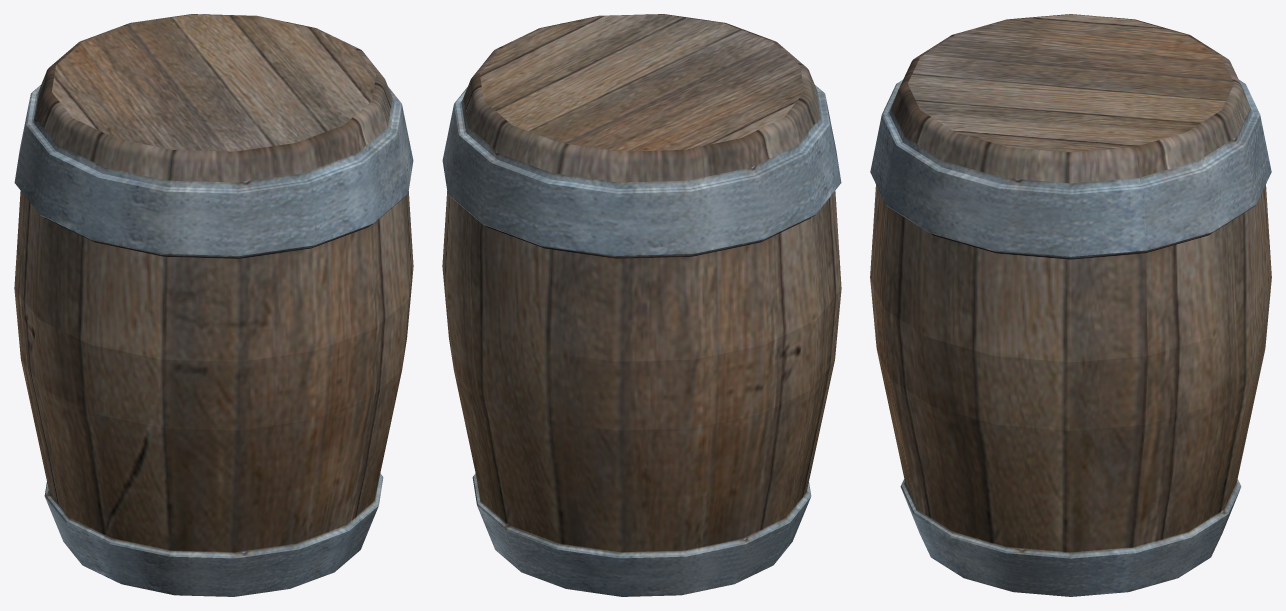
File: barrels-04.FBX
The picture shows the model from 3 angles, left to right: view 1: azimuth 30°, elevation 25°; view 2: azimuth 150°, elevation 25°; view 3: azimuth 270°, elevation 25°; orthographic projection.
Visible parts, largest first — view 1: Line001; view 2: Line001; view 3: Line001.
Part boxes in pixels (x1,y1,x2,y2): Line001: (14, 14, 413, 596); Line001: (442, 14, 841, 596); Line001: (870, 14, 1271, 596).
Size of the model in its own units: 49.09 by 60.56 by 49.09.
Materials: 1 (1 with a texture image).
